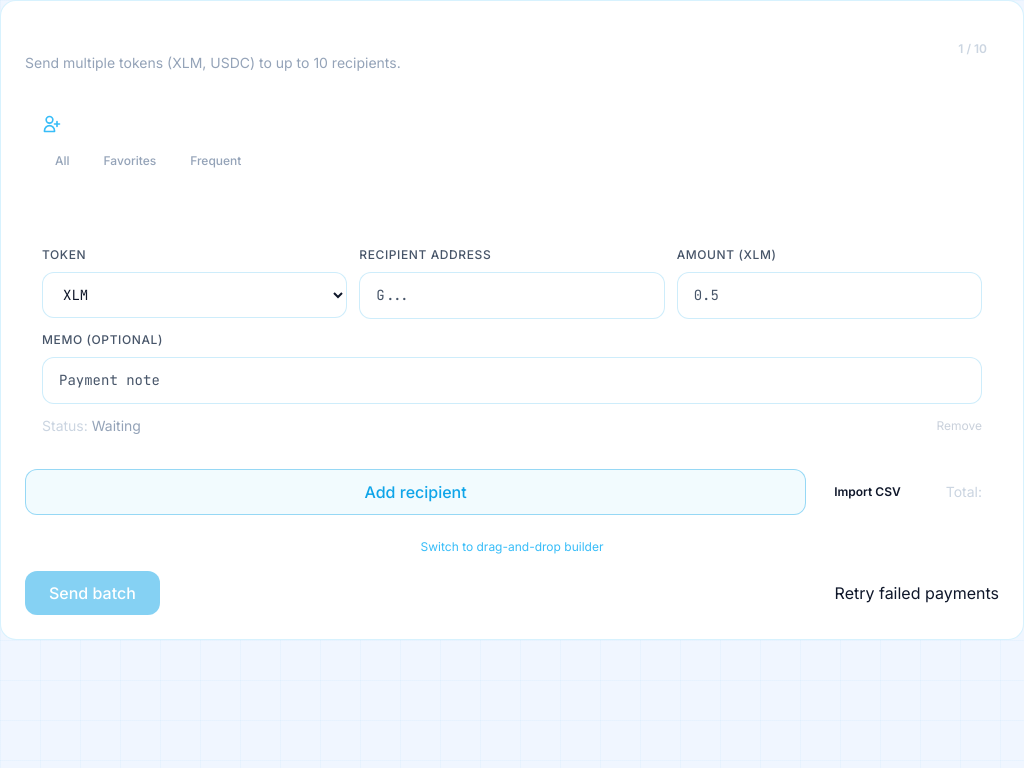
Scenario: BatchPaymentForm › processes batch payment with per-recipient memo
The width and height of the screenshot is (1024, 768).
Type "GA2C5RFPE6GCKMY3US5PAB4UZLKIGF42QD2VXYL43AYVR2AKXT672LAE" into the field with placeholder "G...". click: (512, 296)
box: [359, 272, 665, 319]
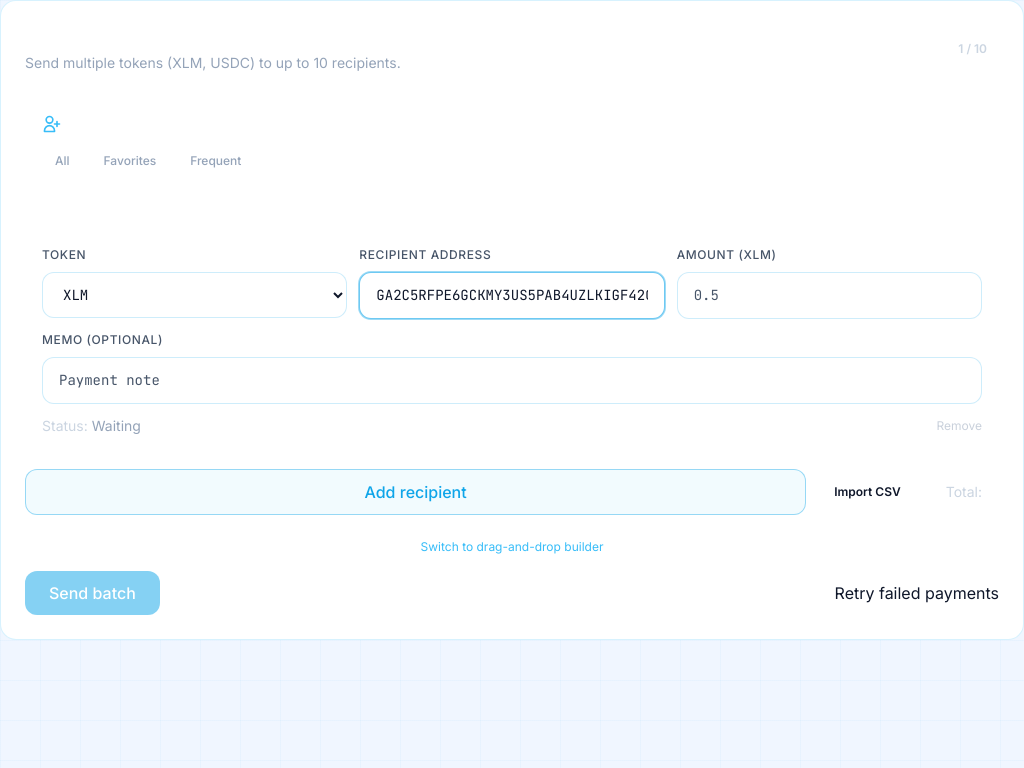
Type "10" into the number field with placeholder "0.5". click: (829, 296)
box: [677, 272, 982, 319]
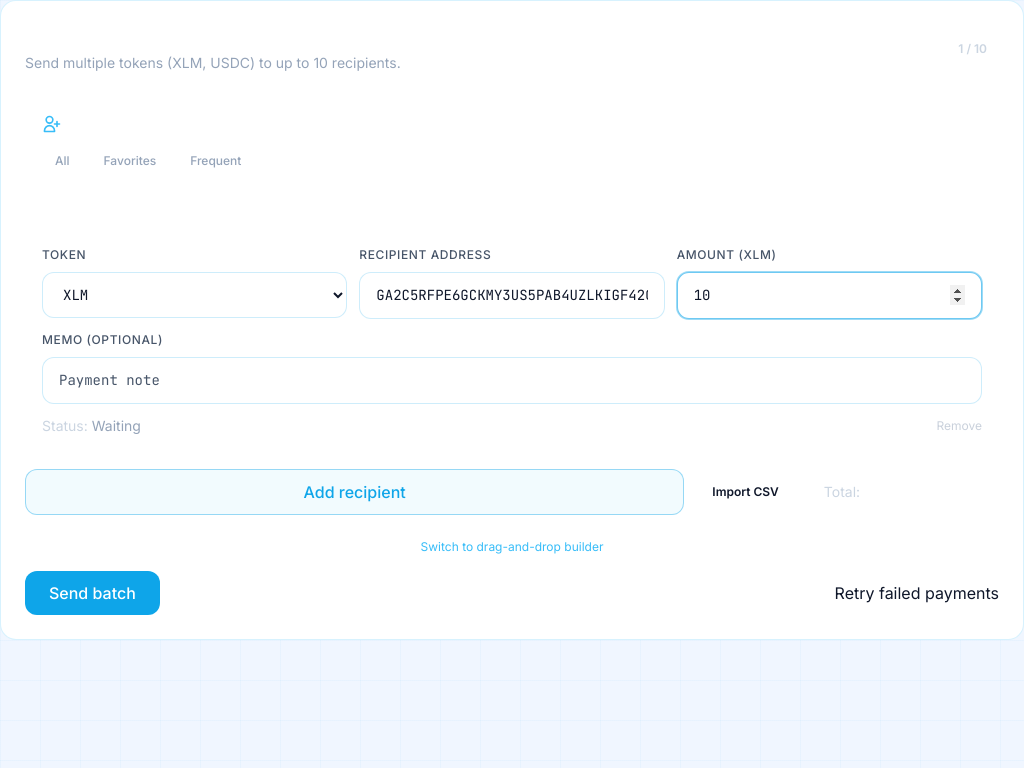
Type "INV-999" into the field with placeholder "Payment note". click: (512, 380)
box: [42, 357, 982, 404]
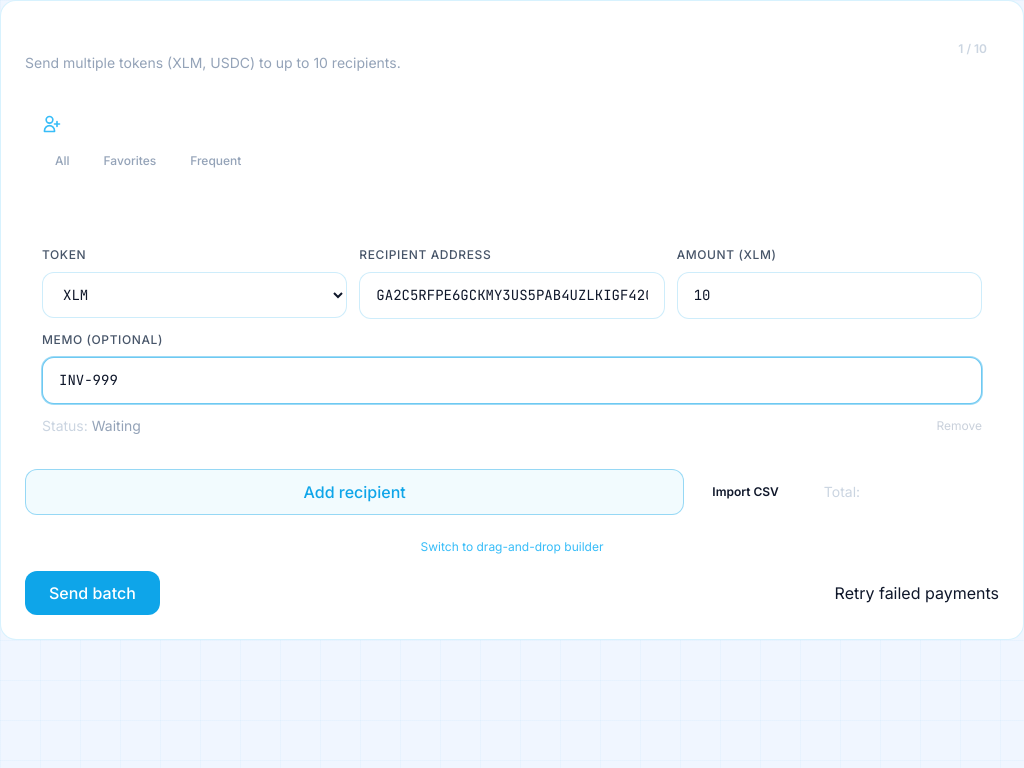
Click the button "Send batch". click: (92, 593)
box: [25, 571, 160, 615]
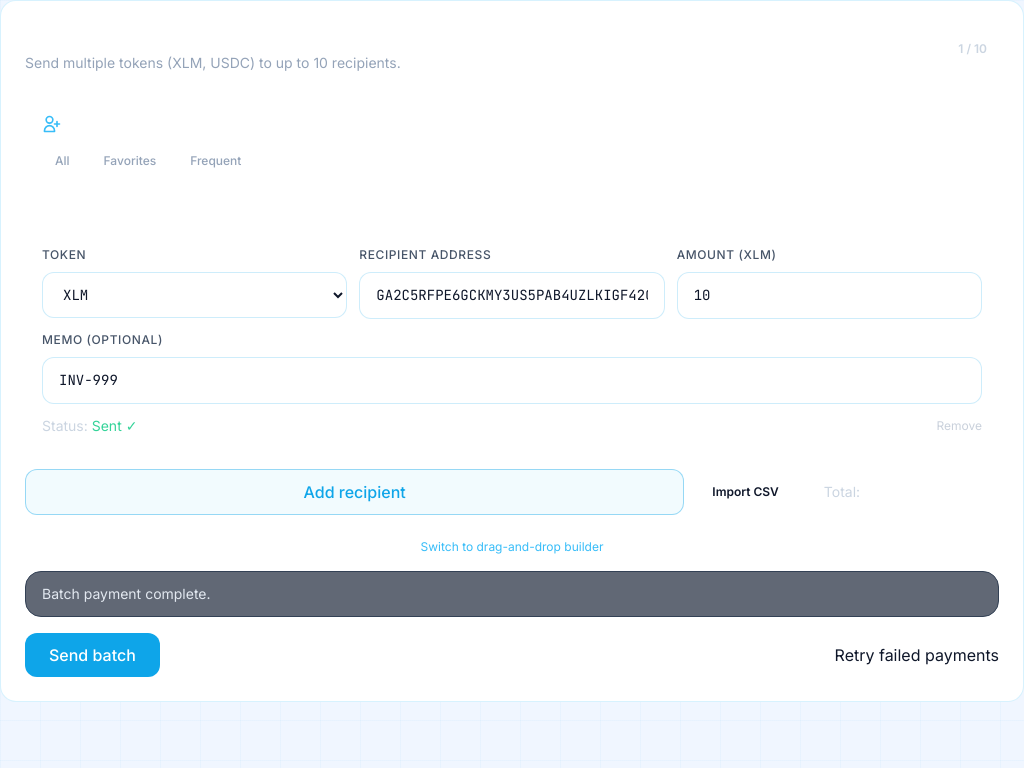
Check: the text "Batch payment complete." is shown, box [25, 571, 999, 617]
